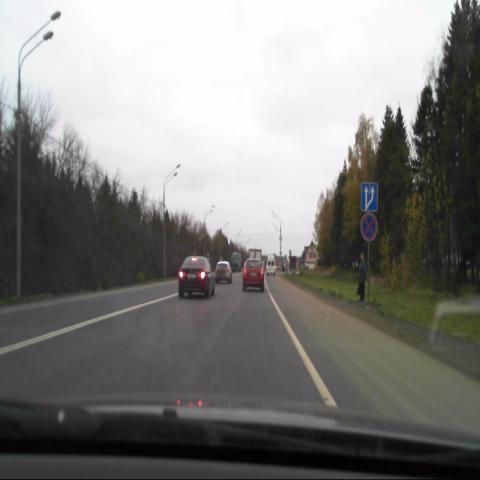3_27: (360, 213, 378, 244)
5_15_3: (360, 181, 378, 213)
